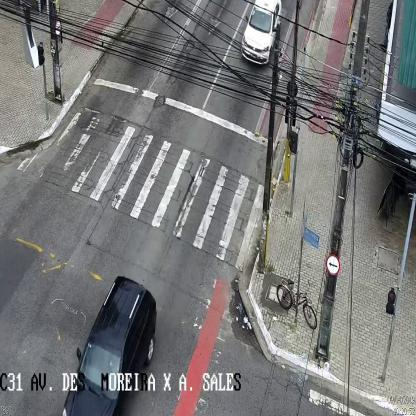bicycle: (276, 277, 317, 331)
car: (62, 274, 157, 416), (243, 0, 282, 64)
